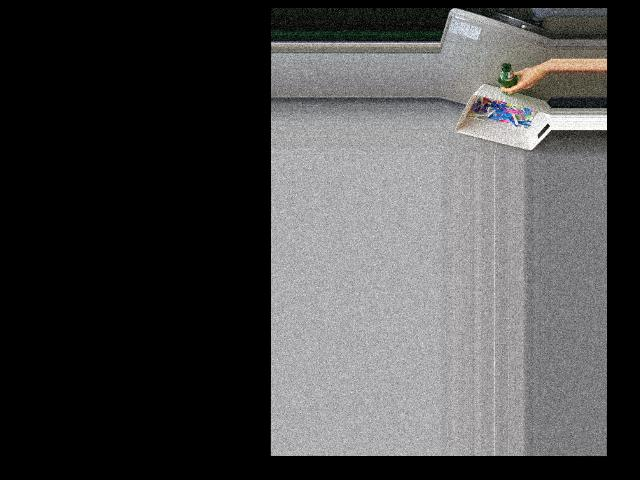beer: (498, 62, 517, 94)
